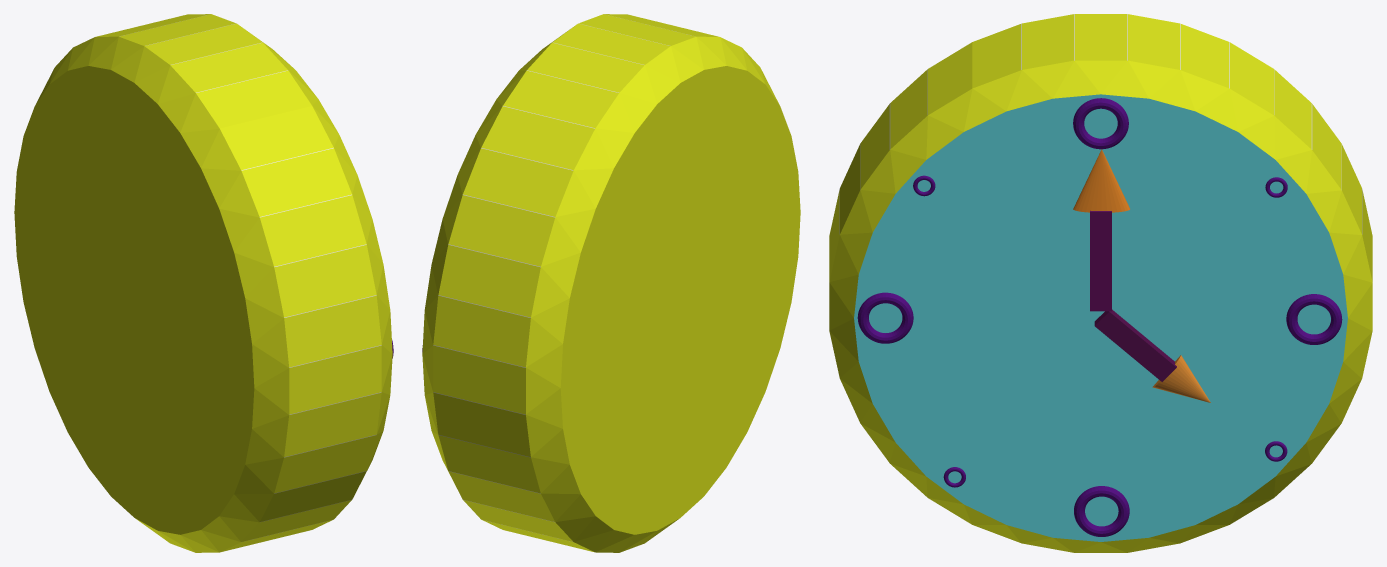
Rendered from clock.fbx.
The picture shows the model from 3 angles, left to right: view 1: azimuth 30°, elevation 25°; view 2: azimuth 150°, elevation 25°; view 3: azimuth 270°, elevation 25°; orthographic projection. The views are drawn at different scales.
Parts seen in each view (by area): view 1: Cylinder; view 2: Cylinder; view 3: Cylinder, Cube, Cube.001, Cone, Torus.002, Torus, Torus.004, Torus.001, Cone.001.
Part boxes in pixels (x1,y1,x2,y2): Cylinder: (14, 14, 392, 552); Cylinder: (422, 14, 800, 552); Cylinder: (829, 14, 1372, 552); Cube: (1090, 210, 1111, 311); Cube.001: (1094, 309, 1176, 381); Cone: (1073, 149, 1129, 212); Torus.002: (857, 292, 913, 343); Torus: (1073, 98, 1128, 149); Torus.004: (1286, 294, 1342, 344); Torus.001: (1074, 486, 1129, 536); Cone.001: (1152, 355, 1210, 402).
Size of the model in its own units: 63.93 by 198 by 198.
